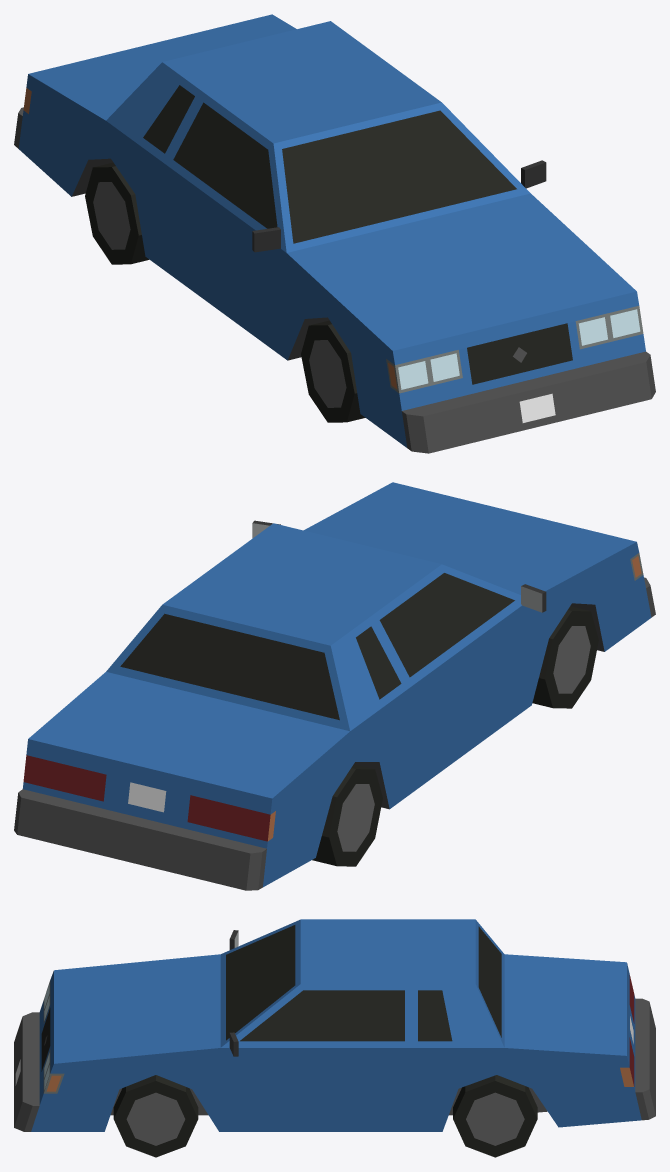
The model's file is Veh_Coupe_03_Blue.glb.
The picture shows the model from 3 angles, top to bottom: view 1: azimuth 30°, elevation 25°; view 2: azimuth 150°, elevation 25°; view 3: azimuth 270°, elevation 25°; orthographic projection. The views are drawn at different scales.
Visible parts, largest first — view 1: Coupe_03_Blue, Wheel_RR, Wheel_FR; view 2: Coupe_03_Blue, Wheel_RR, Wheel_FR; view 3: Coupe_03_Blue, Wheel_RL, Wheel_FL.
Boxes of the visible parts, box(x1,y1,x2,y2) form: Coupe_03_Blue: box(14, 14, 655, 453); Wheel_RR: box(85, 162, 149, 264); Wheel_FR: box(301, 320, 365, 422); Coupe_03_Blue: box(14, 482, 655, 890); Wheel_RR: box(312, 764, 382, 866); Wheel_FR: box(532, 606, 598, 708); Coupe_03_Blue: box(14, 919, 655, 1131); Wheel_RL: box(453, 1075, 537, 1157); Wheel_FL: box(113, 1075, 198, 1157).
Size of the model in its own units: 1.14 by 0.7543 by 2.76.
Materials: 1 (1 with a texture image).
